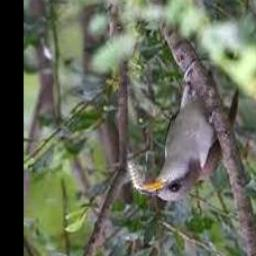Cuckoo: (141, 82, 238, 201)
